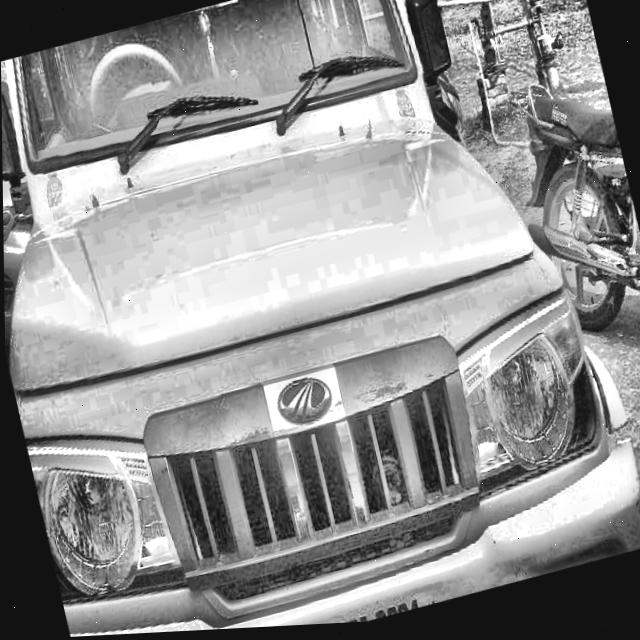light_vehicle: (0, 0, 637, 640)
